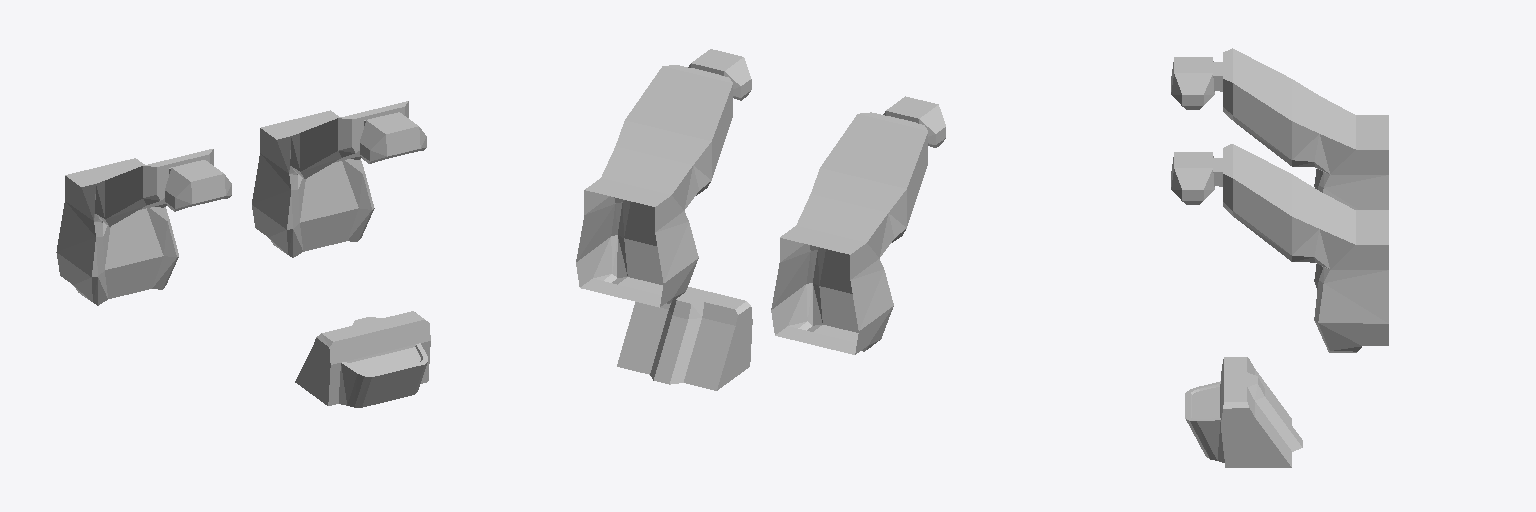
File: seats.obj
The picture shows the model from 3 angles: view 1: azimuth 30°, elevation 25°; view 2: azimuth 150°, elevation 25°; view 3: azimuth 270°, elevation 25°; orthographic projection.
Bounding box in the file's own units: 1.59 × 1.48 × 1.03.